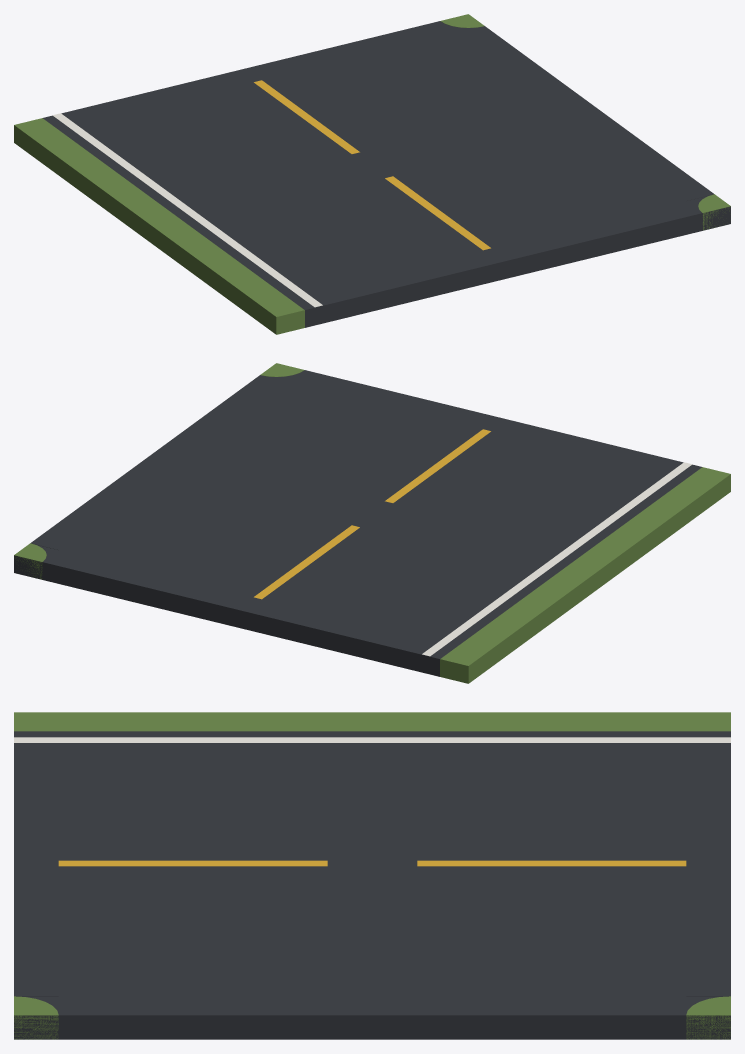
File: Road_2Lane_NoSidewalk_Intersection_T.glb
3 views of the same model, one above another, from view 1: azimuth 30°, elevation 25°; view 2: azimuth 150°, elevation 25°; view 3: azimuth 270°, elevation 25° (orthographic). The views are drawn at different scales.
Parts seen in each view (by area): view 1: Road_2Lane_NoSidewalk_Intersection_T_Asphalt, Road_2Lane_NoSidewalk_Intersection_T_Grass-edge, Road_2Lane_NoSidewalk_Intersection_T_PaintWhite, Road_2Lane_NoSidewalk_Intersection_T_PaintYellow; view 2: Road_2Lane_NoSidewalk_Intersection_T_Asphalt, Road_2Lane_NoSidewalk_Intersection_T_Grass-edge, Road_2Lane_NoSidewalk_Intersection_T_PaintWhite, Road_2Lane_NoSidewalk_Intersection_T_PaintYellow; view 3: Road_2Lane_NoSidewalk_Intersection_T_Asphalt, Road_2Lane_NoSidewalk_Intersection_T_Grass-edge, Road_2Lane_NoSidewalk_Intersection_T_PaintWhite, Road_2Lane_NoSidewalk_Intersection_T_PaintYellow.
Part boxes in pixels (x1=…): Road_2Lane_NoSidewalk_Intersection_T_Asphalt: x1=43, y1=21, x2=730, y2=327; Road_2Lane_NoSidewalk_Intersection_T_Grass-edge: x1=14, y1=14, x2=730, y2=334; Road_2Lane_NoSidewalk_Intersection_T_PaintWhite: x1=53, y1=113, x2=322, y2=307; Road_2Lane_NoSidewalk_Intersection_T_PaintYellow: x1=254, y1=80, x2=490, y2=250; Road_2Lane_NoSidewalk_Intersection_T_Asphalt: x1=14, y1=370, x2=701, y2=676; Road_2Lane_NoSidewalk_Intersection_T_Grass-edge: x1=14, y1=363, x2=730, y2=683; Road_2Lane_NoSidewalk_Intersection_T_PaintWhite: x1=422, y1=462, x2=691, y2=656; Road_2Lane_NoSidewalk_Intersection_T_PaintYellow: x1=254, y1=429, x2=490, y2=599; Road_2Lane_NoSidewalk_Intersection_T_Asphalt: x1=14, y1=731, x2=730, y2=1039; Road_2Lane_NoSidewalk_Intersection_T_Grass-edge: x1=14, y1=712, x2=730, y2=1039; Road_2Lane_NoSidewalk_Intersection_T_PaintWhite: x1=14, y1=737, x2=730, y2=742; Road_2Lane_NoSidewalk_Intersection_T_PaintYellow: x1=58, y1=860, x2=686, y2=866.
Bounding box in the file's own units: 8 × 0.305 × 8.
